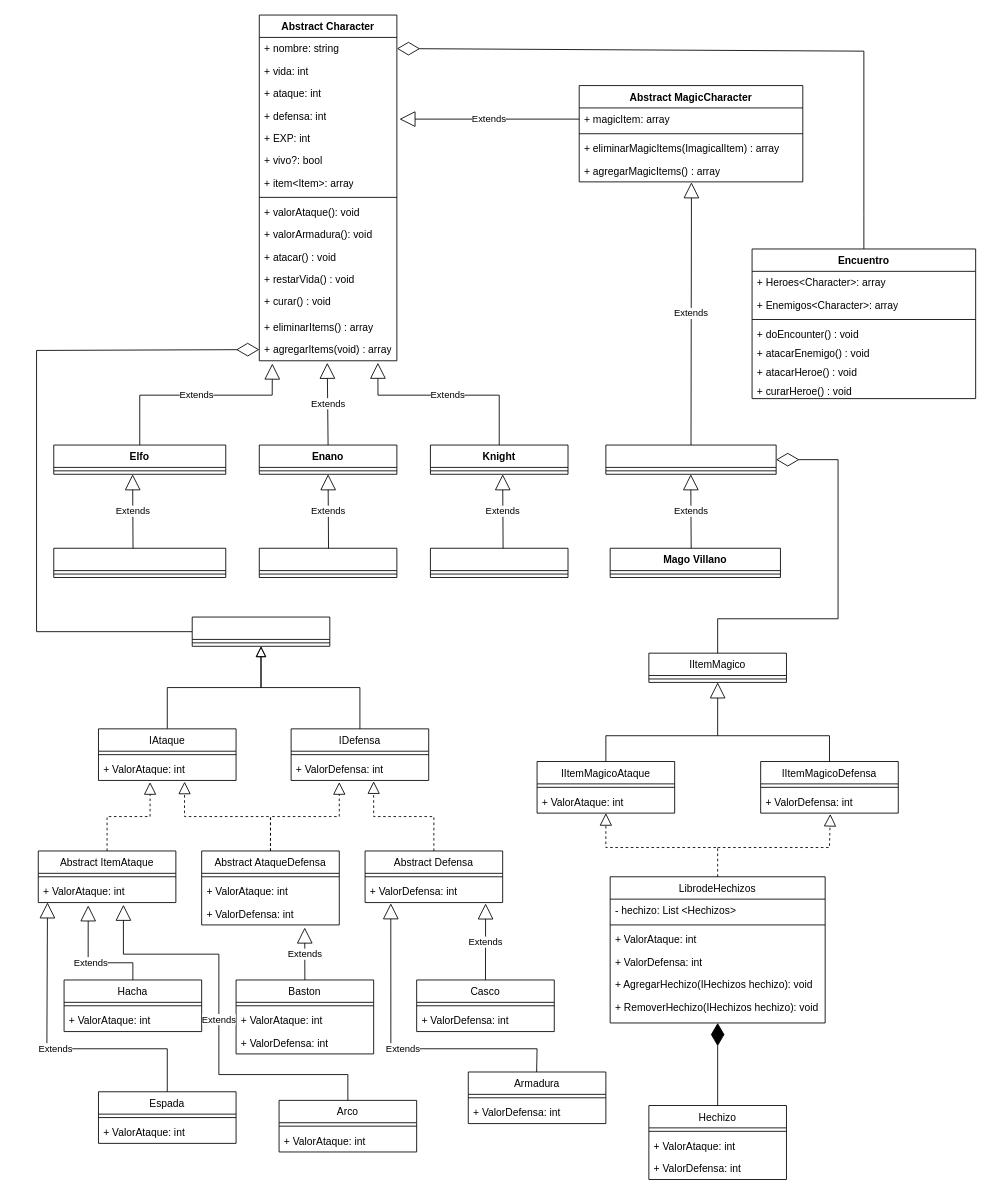
The diagram is 991 pixels wide and 1197 high, and some of its shapes have lost their labels. Grey dashed boxes stand in for pictures. Here are the shapes that lost their labels. From the top down, the centre of each, then its label:
At [690,459]: "Mago".
At [139,562]: "Elfo Villano".
At [327,562]: "Enano Villano".
At [499,562]: "Knight Villano".
At [260,631]: "IItem".
